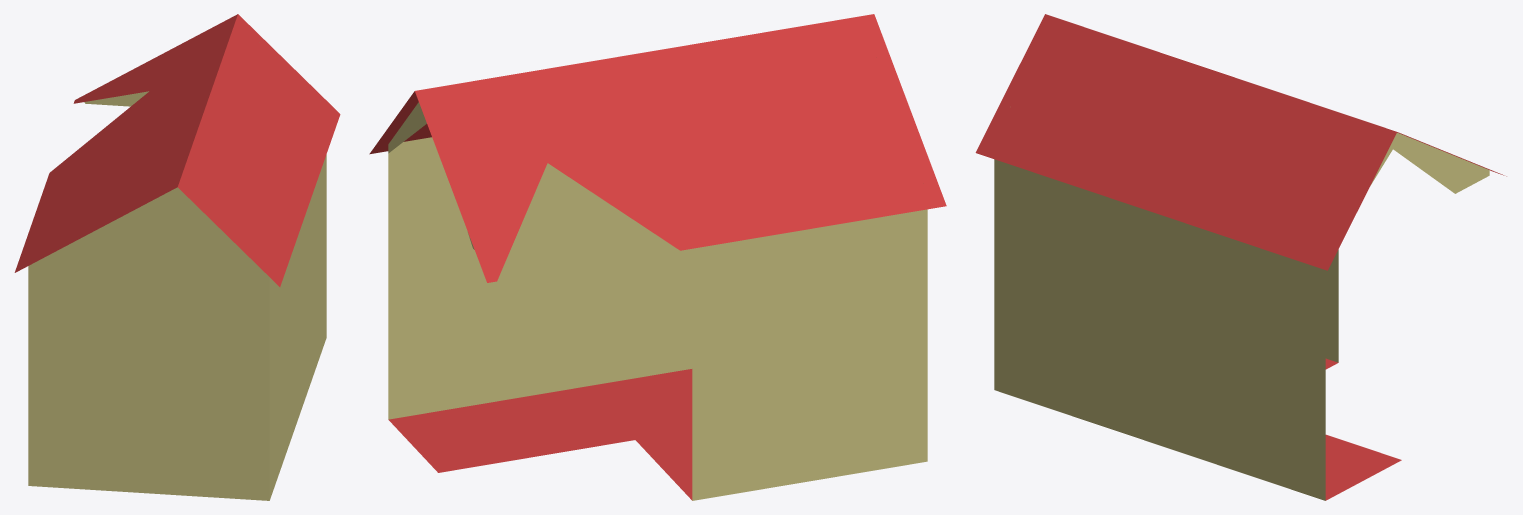
3 views of the same model, side by side, from view 1: azimuth 30°, elevation 25°; view 2: azimuth 150°, elevation 25°; view 3: azimuth 270°, elevation 25° (orthographic). The views are drawn at different scales.
Bounding box in the file's own units: 19 × 19.96 × 14.04.
